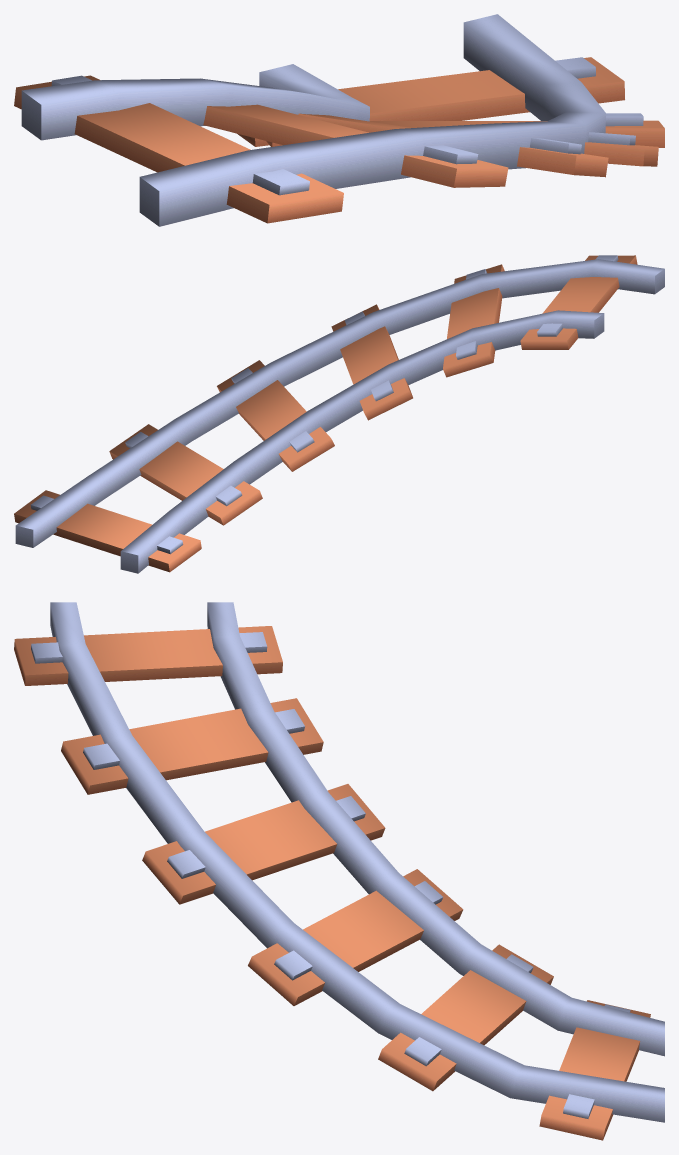
File: railroad-corner-small-ramp.glb
The picture shows the model from 3 angles, top to bottom: view 1: azimuth 30°, elevation 25°; view 2: azimuth 150°, elevation 25°; view 3: azimuth 270°, elevation 25°; orthographic projection. The views are drawn at different scales.
Visible parts, largest first — view 1: railroad-corner-small-ramp; view 2: railroad-corner-small-ramp; view 3: railroad-corner-small-ramp.
Part boxes in pixels (bbox=[...]): railroad-corner-small-ramp: bbox=[14, 14, 664, 226]; railroad-corner-small-ramp: bbox=[14, 255, 664, 573]; railroad-corner-small-ramp: bbox=[14, 602, 664, 1140].
Bounding box in the file's own units: 2.49 × 1.11 × 2.49.
1 material, 1 textured.
